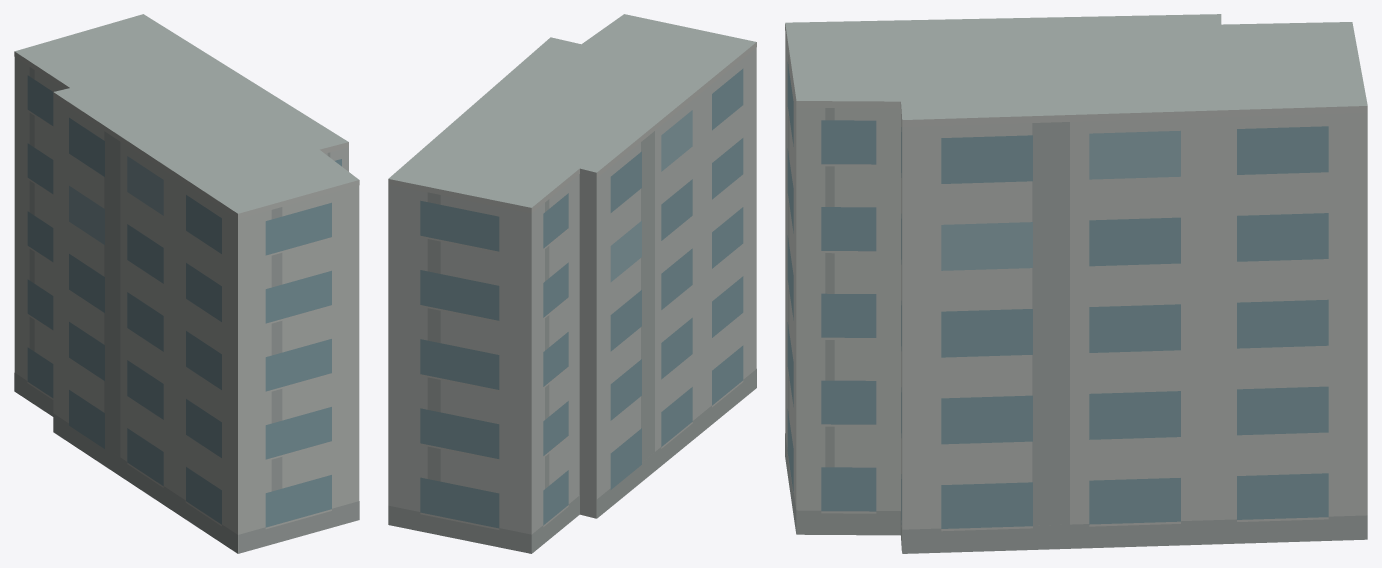
File: survey-upis-32634531.glb
3 renders of one model, left to right at view 1: azimuth 30°, elevation 25°; view 2: azimuth 150°, elevation 25°; view 3: azimuth 270°, elevation 25°, orthographic. The views are drawn at different scales.
Parts seen in each view (by area): view 1: survey-upis-32634531.tmp; view 2: survey-upis-32634531.tmp; view 3: survey-upis-32634531.tmp.
Boxes of the visible parts, x1,y1,x2,y2 form: survey-upis-32634531.tmp: (14,14,359,553); survey-upis-32634531.tmp: (388,14,756,553); survey-upis-32634531.tmp: (785,14,1367,553).
Bounding box in the file's own units: 8.01 × 15.25 × 18.58.
